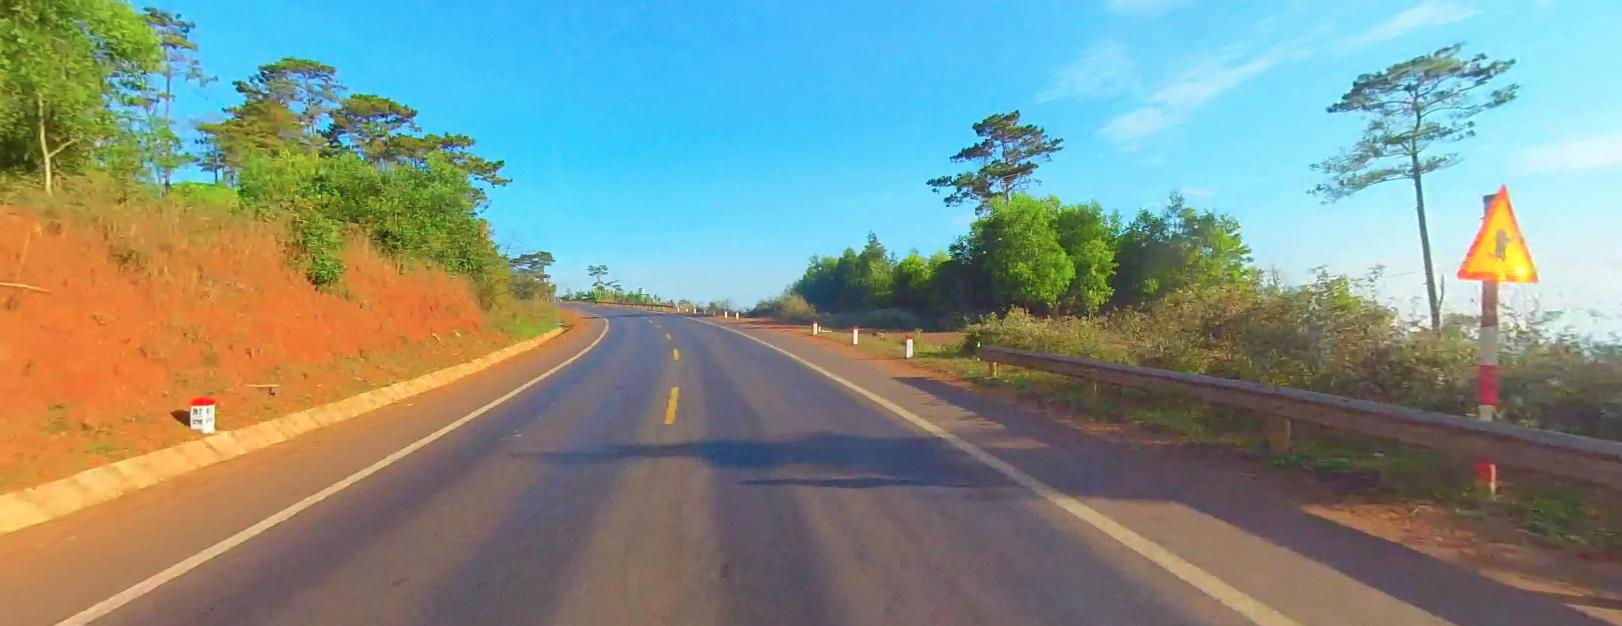Nguy hiem: (1455, 182, 1542, 284)
